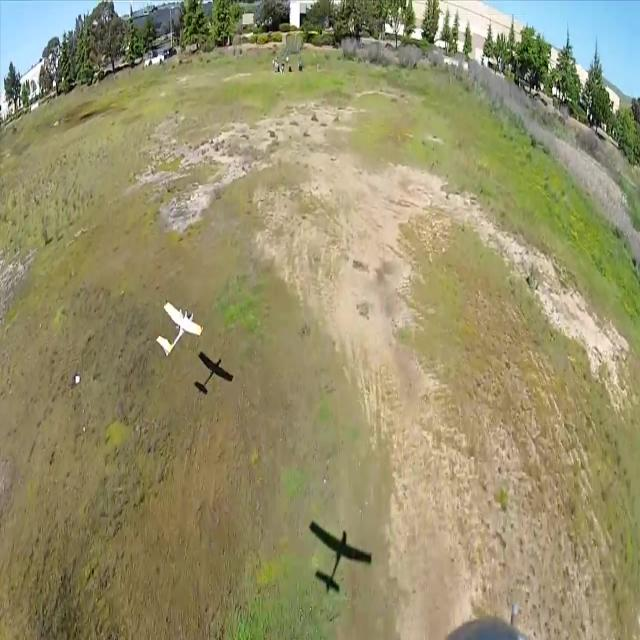iha: (154, 292, 204, 352)
